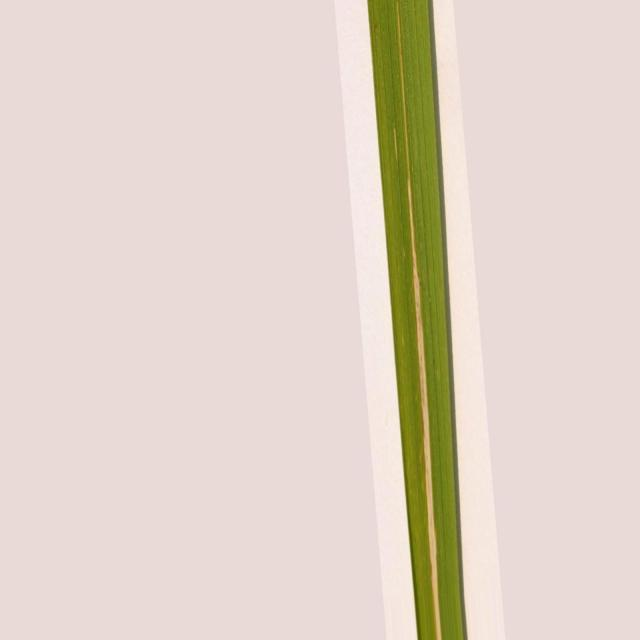Bacterial_Leaf_Blight: (396, 8, 442, 640)
